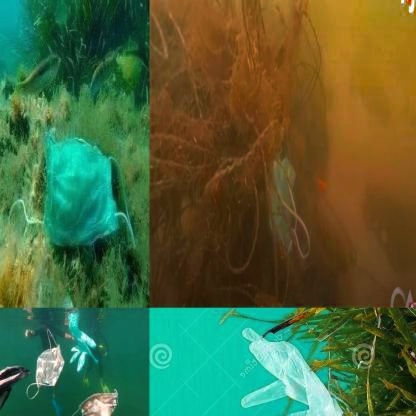Mask: (8, 129, 138, 254), (260, 135, 314, 281), (26, 328, 65, 398), (73, 388, 124, 416)
glove: (236, 316, 364, 416), (67, 312, 101, 374)
